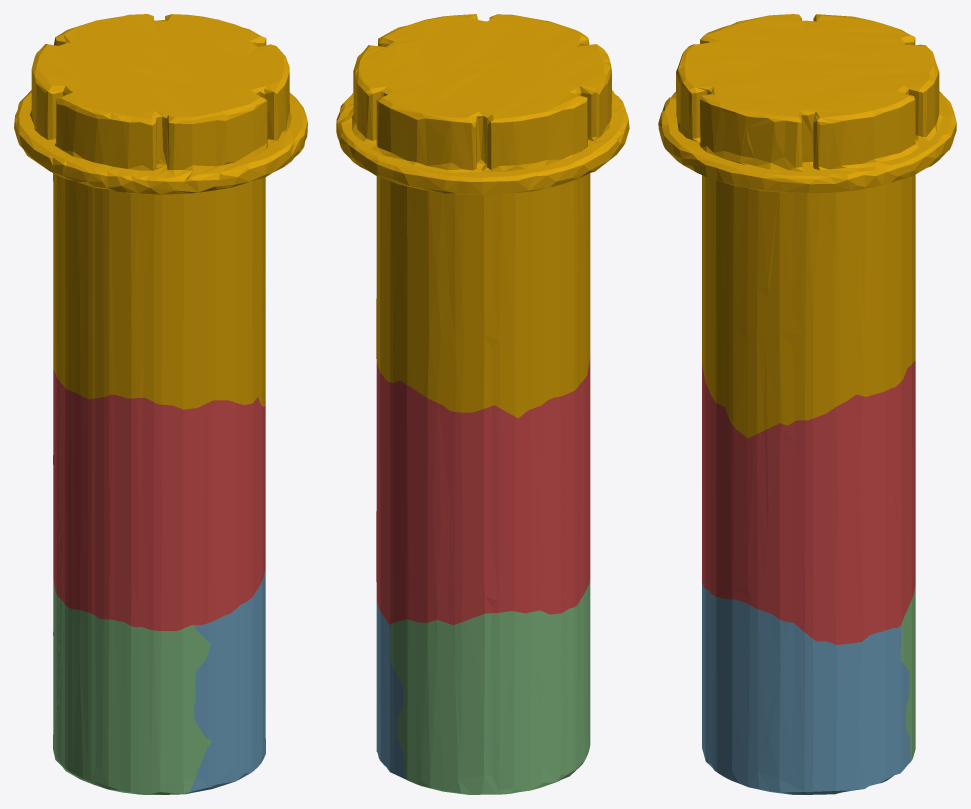
The model's file is fractured_43_4pcs.glb.
3 views of the same model, side by side, from view 1: azimuth 30°, elevation 25°; view 2: azimuth 150°, elevation 25°; view 3: azimuth 270°, elevation 25° (orthographic).
Visible parts, largest first — view 1: piece_0.obj, piece_1.obj, piece_3.obj, piece_2.obj; view 2: piece_0.obj, piece_1.obj, piece_3.obj, piece_2.obj; view 3: piece_0.obj, piece_1.obj, piece_2.obj, piece_3.obj.
Boxes of the visible parts, x1,y1,x2,y2 form: piece_0.obj: (14, 14, 307, 409); piece_1.obj: (53, 369, 265, 630); piece_3.obj: (53, 578, 211, 794); piece_2.obj: (189, 571, 265, 793); piece_0.obj: (336, 14, 629, 418); piece_1.obj: (376, 354, 590, 624); piece_3.obj: (390, 579, 590, 794); piece_2.obj: (376, 603, 405, 779); piece_0.obj: (658, 14, 956, 437); piece_1.obj: (702, 360, 915, 644); piece_2.obj: (702, 583, 910, 794); piece_3.obj: (900, 586, 915, 760).
Size of the model in its own units: 0.3863 by 1 by 0.3933.
